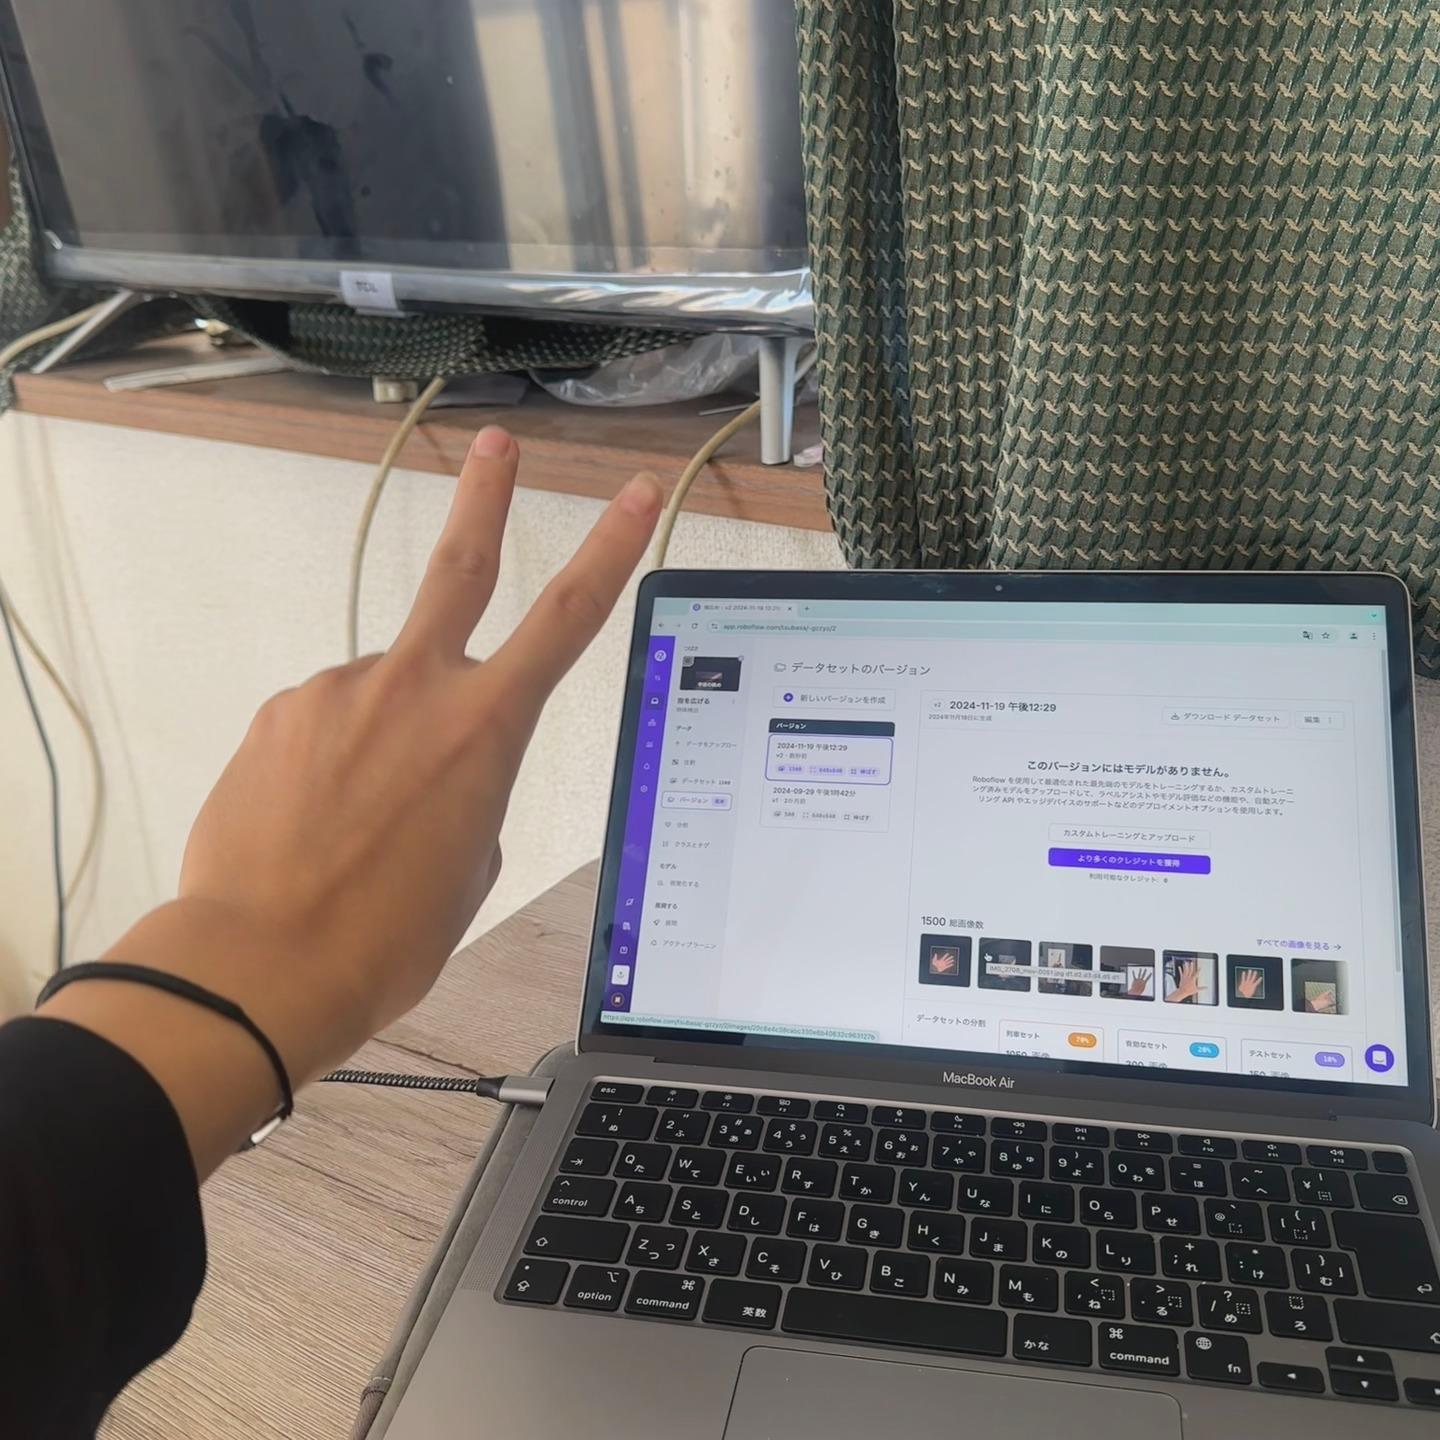without_gloves: (129, 437, 735, 1102)
